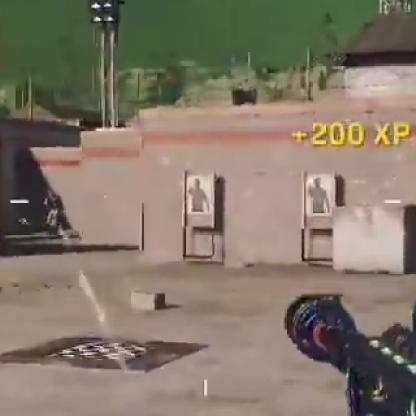enemy: (42, 189, 65, 236)
